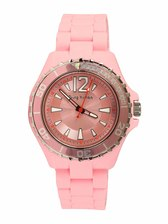watch: (27, 12, 148, 213)
